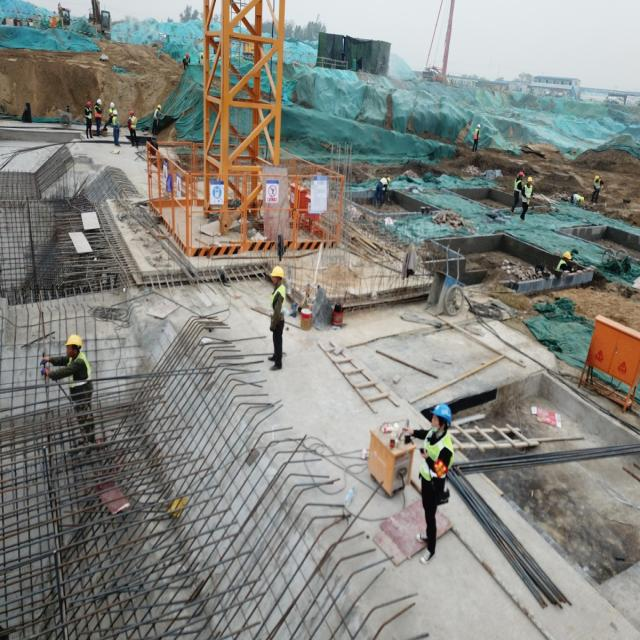crane: (202, 0, 284, 235), (421, 0, 454, 84)
excavator: (87, 0, 111, 39), (48, 3, 70, 29)
hardhat: (428, 400, 455, 428), (59, 332, 86, 352), (269, 265, 289, 285), (563, 249, 573, 264), (515, 169, 526, 182), (592, 175, 603, 186), (526, 174, 535, 185), (386, 172, 393, 185), (581, 192, 586, 205), (476, 122, 483, 130), (115, 108, 122, 116), (156, 103, 163, 111), (96, 98, 103, 106), (186, 50, 191, 61), (129, 108, 134, 118), (86, 100, 92, 108), (109, 101, 115, 109), (200, 51, 205, 60)
person: (40, 332, 114, 469), (412, 404, 458, 569), (262, 258, 296, 374), (555, 242, 574, 289), (523, 176, 537, 227), (375, 171, 393, 210), (568, 178, 587, 212), (81, 99, 94, 143), (509, 168, 521, 214), (593, 174, 607, 210), (93, 95, 103, 138), (129, 110, 139, 150), (150, 101, 161, 134), (106, 99, 116, 133), (471, 121, 481, 155), (113, 111, 120, 146), (181, 49, 190, 73), (197, 49, 205, 72)
